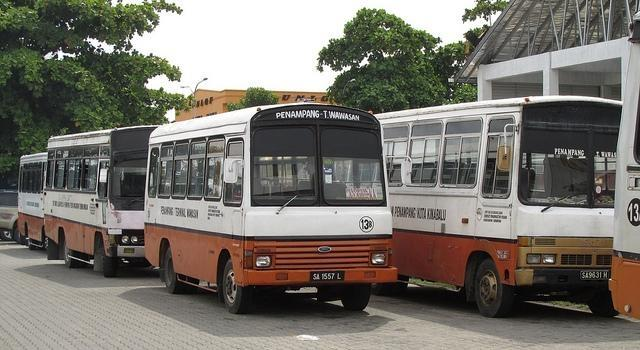bus: (382, 96, 627, 322), (146, 104, 397, 316), (43, 125, 164, 278), (612, 48, 640, 319), (16, 153, 48, 251)
car: (0, 190, 18, 240)
